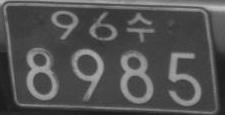5: (167, 51, 202, 107)
6: (87, 10, 118, 41)
8: (119, 48, 154, 104), (24, 46, 59, 101)
9: (70, 47, 105, 101), (50, 9, 79, 40)
수: (126, 12, 154, 42)
